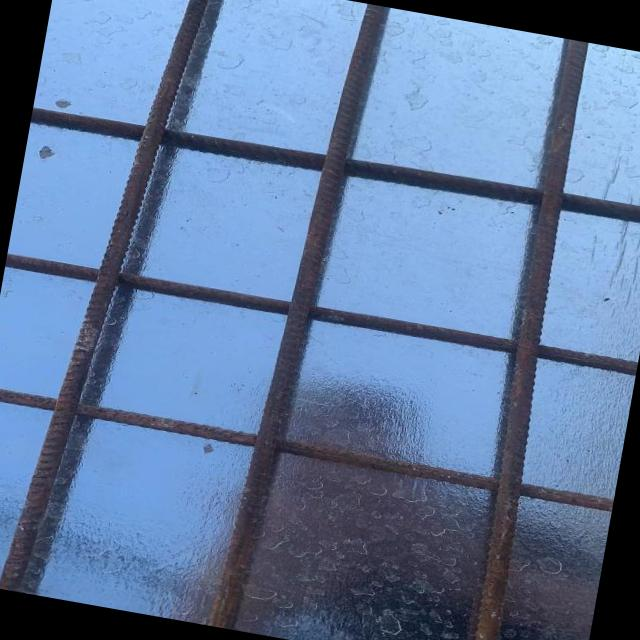ribbed bar: (0, 0, 216, 606), (202, 0, 389, 637), (450, 37, 604, 640), (30, 97, 640, 233), (4, 248, 636, 378), (0, 384, 613, 512)
